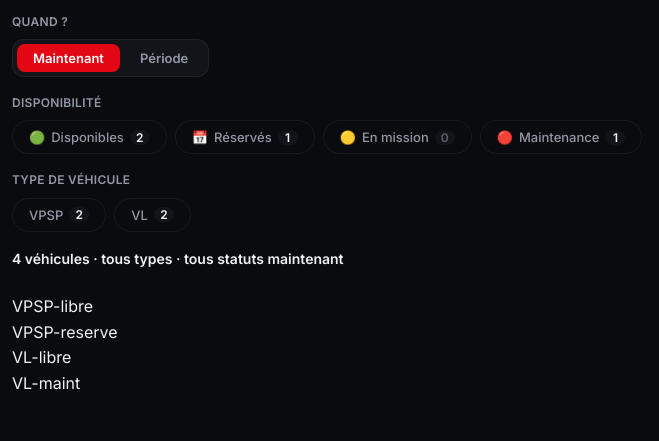
Test case: DtFilterPanel › puces : OU dans un groupe, ET entre groupes, compteurs à facettes
This screenshot has width=659, height=441.
Check: the button with aria-label "VL, 2 véhicules" is shown, box [114,198,191,232]
Click the button with aria-label "VPSP, 2 véhicules": point(59, 215) [12,198,106,232]
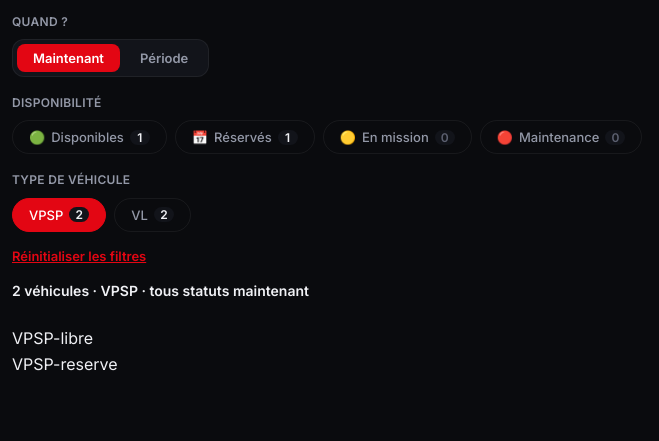
Check: the button with aria-label "Maintenance, 0 véhicule" is shown, box [480,120,642,154]
Click the button with aria-label "VL, 2 véhicules": point(153, 215) [114,198,191,232]
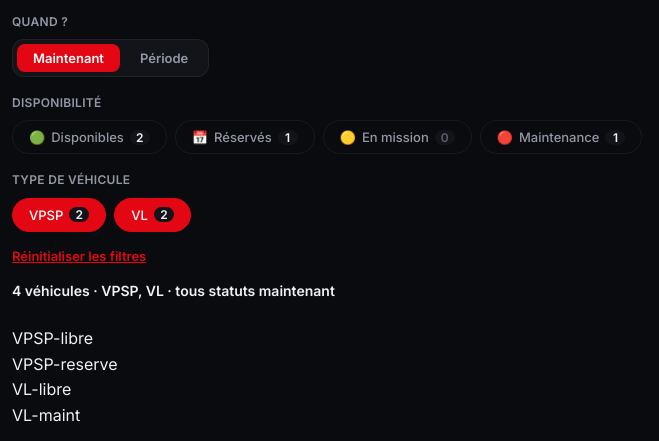
Check: the number of list items is 4, box [12,328,93,348]; [12,354,118,374]; [12,379,71,399]; [12,405,80,425]
Click the button with aria-label "Disponibles, 2 véhicules": point(89, 137) [12,120,167,154]
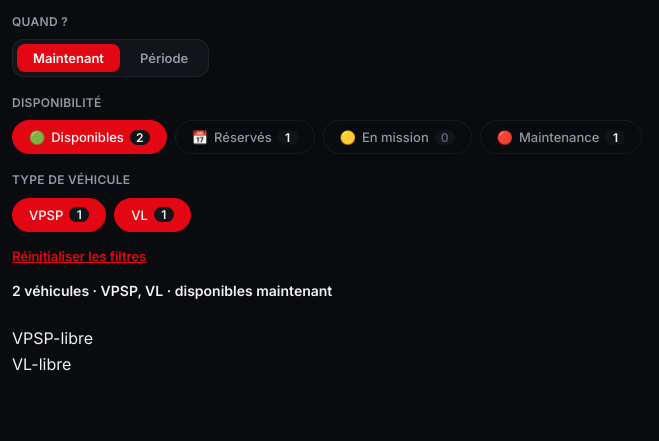
Check: the button with aria-label "VPSP, 1 véhicule" is shown, box [12,198,106,232]
Check: the text "2 véhicules · VPSP, VL · disponibles maintenant" is shown, box [12,282,332,299]
Click the button "Réinitialiser les filtres": point(79, 256) [12,248,146,264]
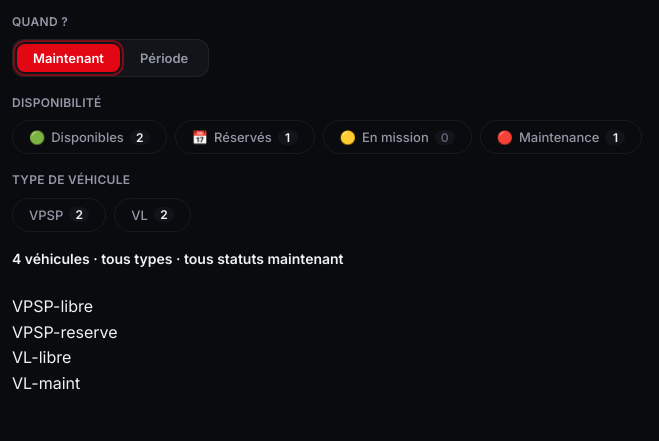
Check: the number of list items is 4, box [12,296,93,316]; [12,322,118,342]; [12,347,71,367]; [12,373,80,393]
